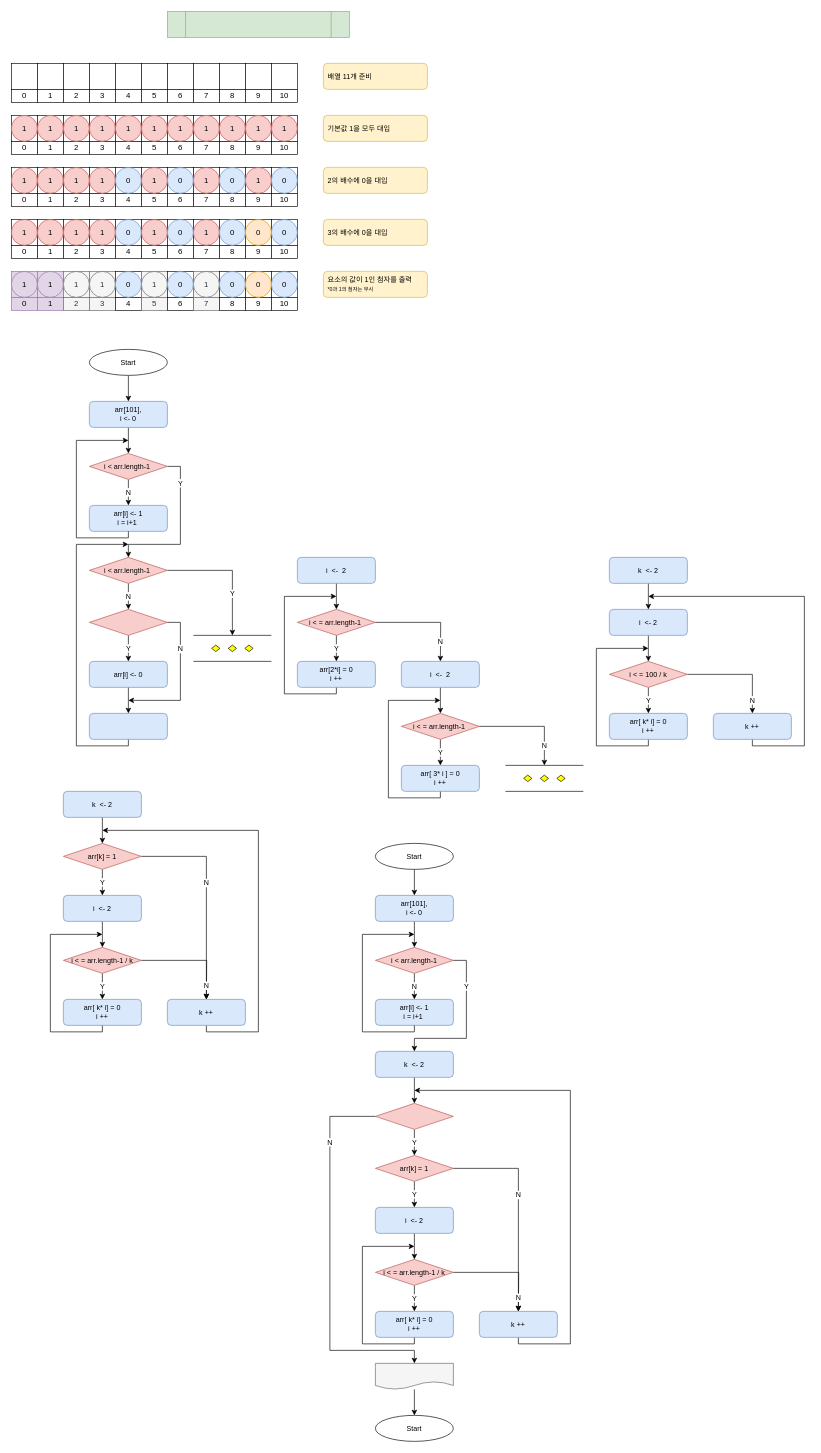
The diagram is 821 pixels wide and 1453 high, and some of its shapes have lost their labels. The box of each missing label's shape, as (x1, y1, x2, y2) in pixels:
arr: (375, 1363, 453, 1389)
arr[i] % 2 = 0: (89, 609, 167, 635)
i = i+1: (89, 713, 167, 739)
k * k < arr.length-1: (375, 1103, 453, 1129)
Sieve of Eratosthenes: (167, 11, 349, 37)
